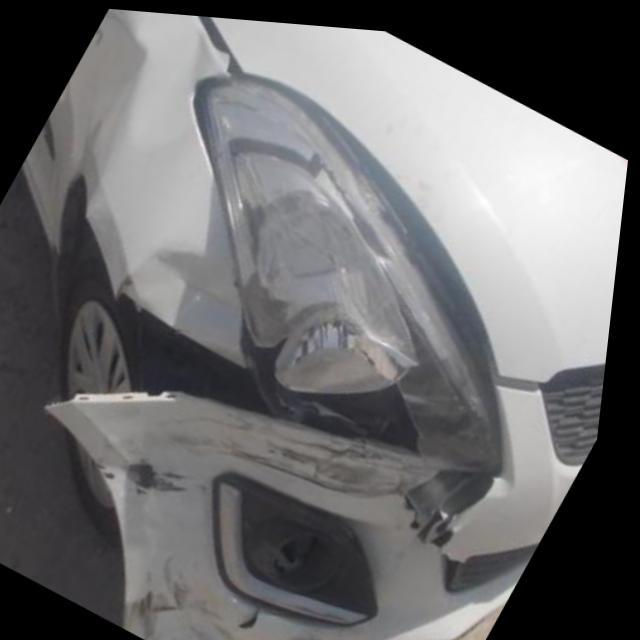dislocated part: (52, 298, 430, 449)
lamp broken: (234, 264, 434, 443)
rub: (142, 404, 441, 497)
scratch: (126, 449, 202, 504)
